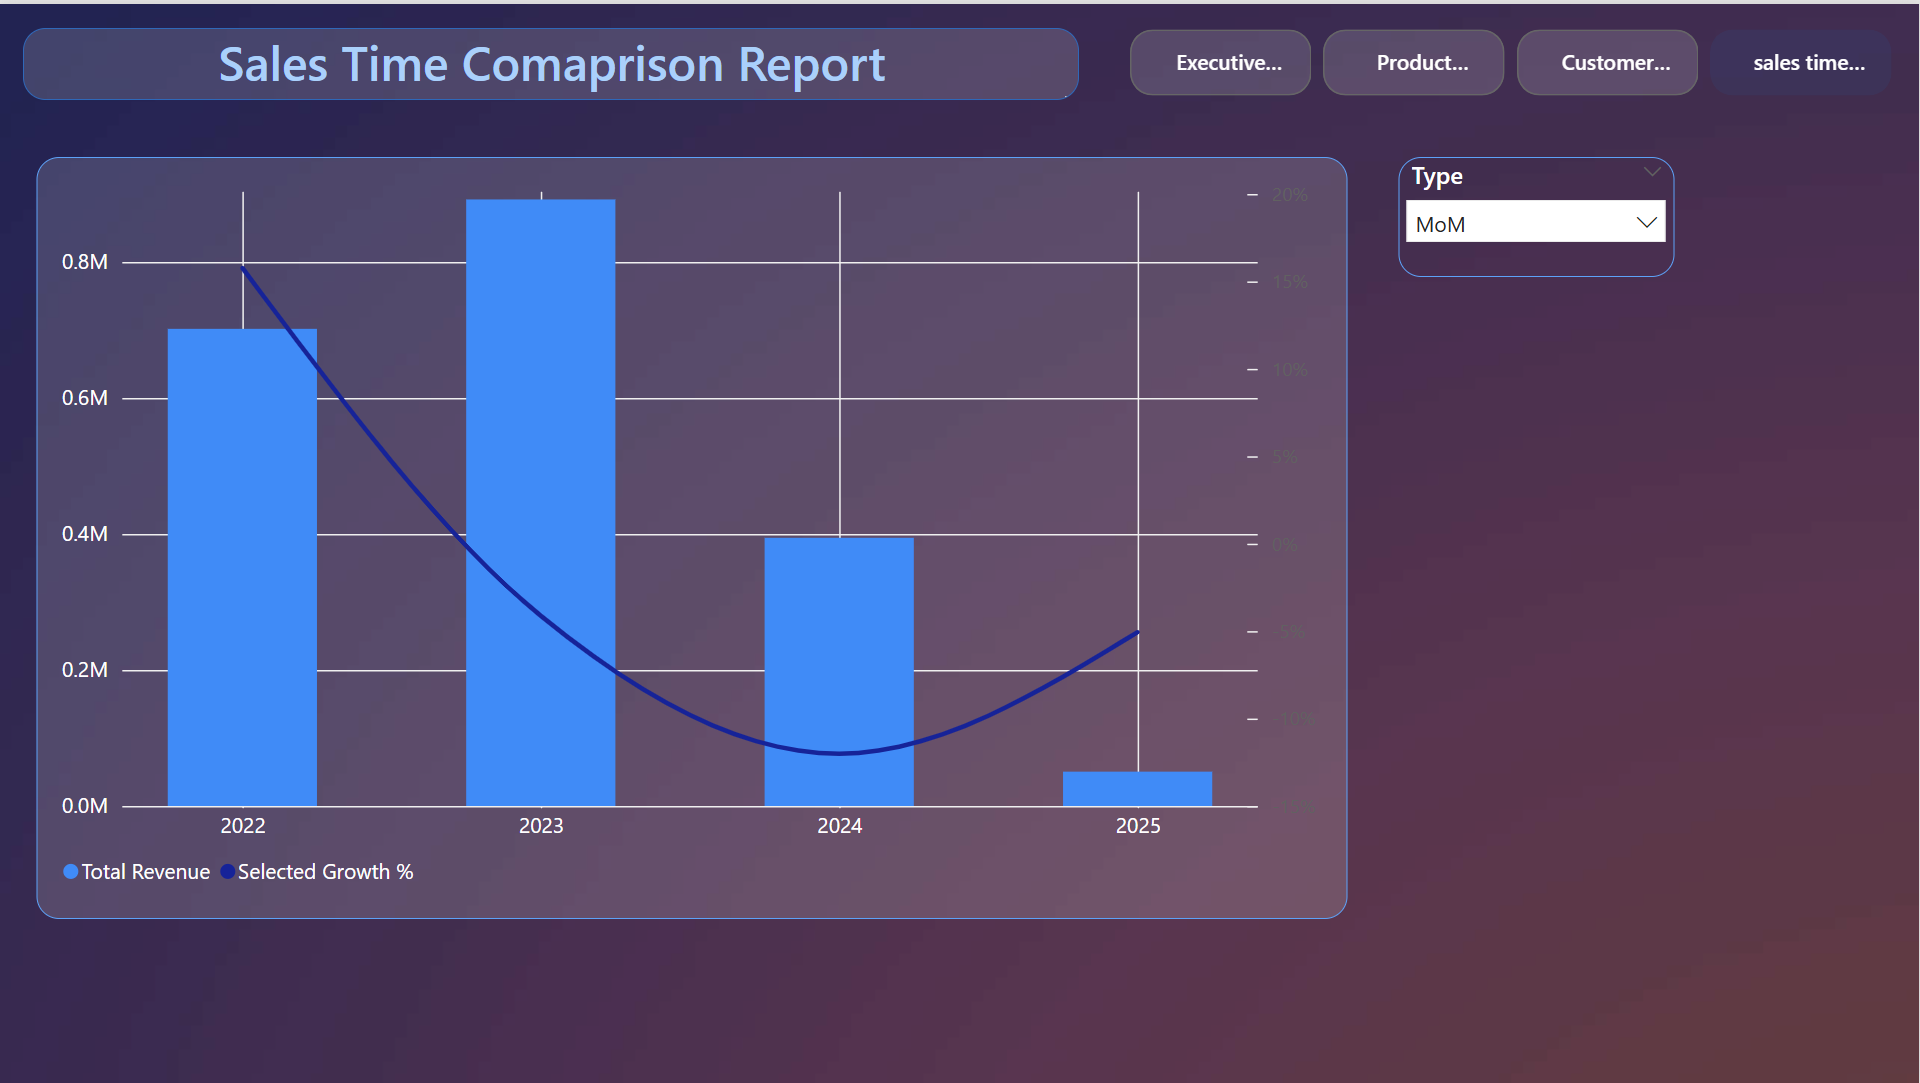

This screenshot's page, from the dashboard's own definition file:
{"tool":"powerbi","page":{"name":"sales time comparison","canvas":[1280,720],"ordinal":3},"visuals":[{"type":"textbox","title":"Sales Time Comaprison Report","box":[16,16,704,48],"z":0},{"type":"pageNavigator","box":[753.5,16.5,509.9,44.4],"z":4},{"type":"slicer","fields":{"Values":["Comparison Type.Type"]},"box":[933,102,184,80],"z":5},{"type":"lineClusteredColumnComboChart","fields":{"Category":["DateTable.Date.Variation.Date Hierarchy.Year"],"Y":["Customer_view.Total Revenue"],"Y2":["Comparison Type.Selected Growth %"]},"box":[25,102,874,508],"z":6}]}

Visuals, with their boxes in screenshot pixels (x1, y1, x2, y2), scaled from the page's 1280x720 canvas onto the 1920x1083 screenshot:
"Sales Time Comaprison Report" textbox: BBox(24, 24, 1080, 96)
pageNavigator: BBox(1130, 25, 1895, 92)
slicer - Comparison Type.Type: BBox(1400, 153, 1676, 274)
lineClusteredColumnComboChart - DateTable.Date.Variation.Date Hierarchy.Year x Customer_view.Total Revenue: BBox(38, 153, 1348, 918)
